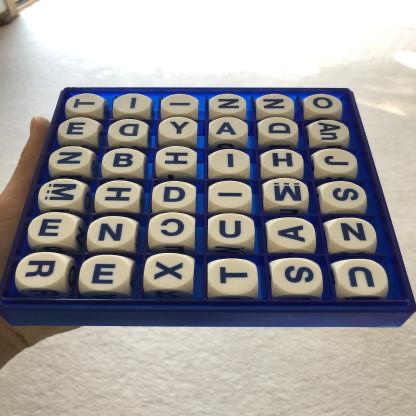a: (269, 219, 317, 251), (210, 118, 248, 140)
an: (312, 121, 350, 143)
b: (104, 149, 146, 174)
c: (150, 214, 197, 246)
d: (154, 182, 197, 210), (259, 118, 299, 140), (109, 121, 147, 143)
e: (81, 256, 131, 291), (29, 213, 77, 245), (60, 118, 99, 141)
h: (96, 181, 140, 209), (261, 150, 305, 175), (157, 147, 199, 173)
i: (209, 182, 253, 209), (209, 150, 252, 175), (162, 95, 200, 115), (114, 95, 153, 114)
j: (316, 150, 359, 175)
m: (40, 180, 85, 209), (264, 179, 310, 207)
n: (330, 219, 377, 251), (89, 217, 137, 248), (50, 148, 92, 173), (210, 95, 247, 115), (257, 95, 294, 115)
o: (306, 95, 342, 115)
r: (18, 253, 67, 289)
s: (272, 259, 323, 295), (323, 182, 369, 211)
t: (209, 260, 259, 296), (67, 95, 103, 114)
u: (337, 260, 389, 296), (209, 215, 256, 246)
x: (146, 255, 195, 291)
y: (160, 118, 198, 140)
